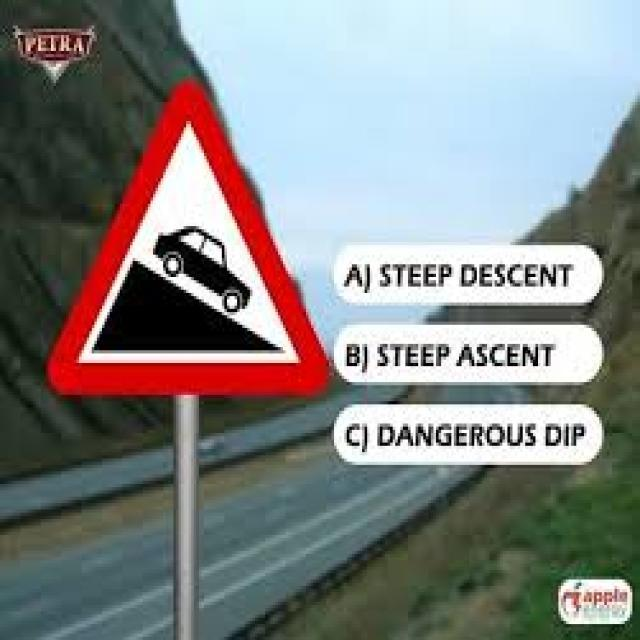steep descent: (48, 80, 322, 387)
